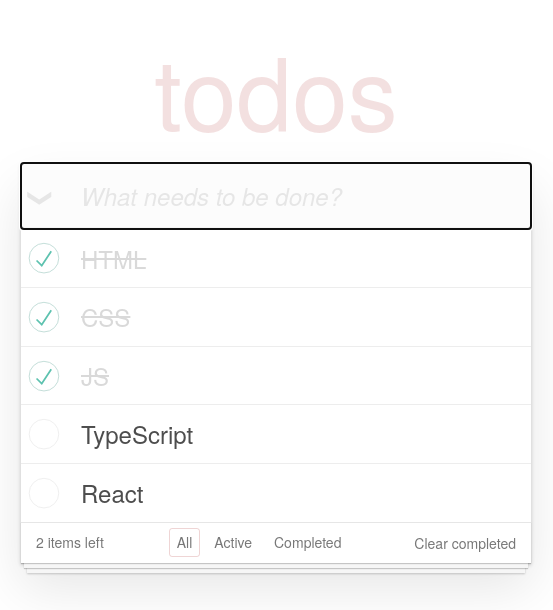
Scenario: Renaming › Edit Form › by default › should be opened on dblclick
Expected: the heading "todos" is shown, [154,16,398,159]
Double-click the text with test id "TodoTitle" showing "HTML": (114, 259) [81,241,146,276]
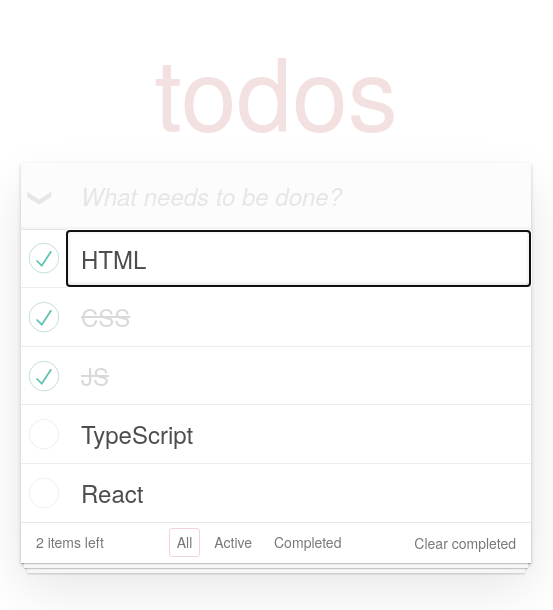
Result: the field with test id "TodoTitleField" is shown at [66,230,531,288]
